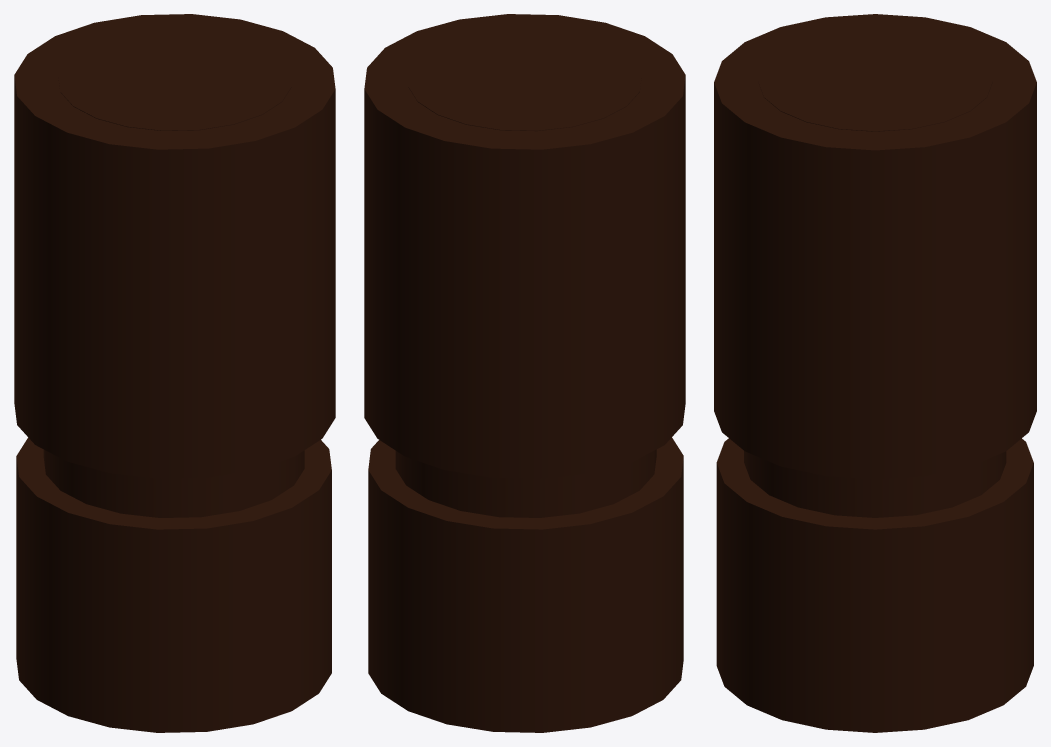
3 renders of one model, left to right at view 1: azimuth 30°, elevation 25°; view 2: azimuth 150°, elevation 25°; view 3: azimuth 270°, elevation 25°, orthographic.
Parts seen in each view (by area): view 1: 丸2_茶; view 2: 丸2_茶; view 3: 丸2_茶.
Boxes of the visible parts, x1,y1,x2,y2 form: 丸2_茶: [14, 14, 335, 732]; 丸2_茶: [364, 14, 685, 732]; 丸2_茶: [714, 14, 1036, 732].
Bounding box in the file's own units: 0.0261 × 0.0522 × 0.0261.
